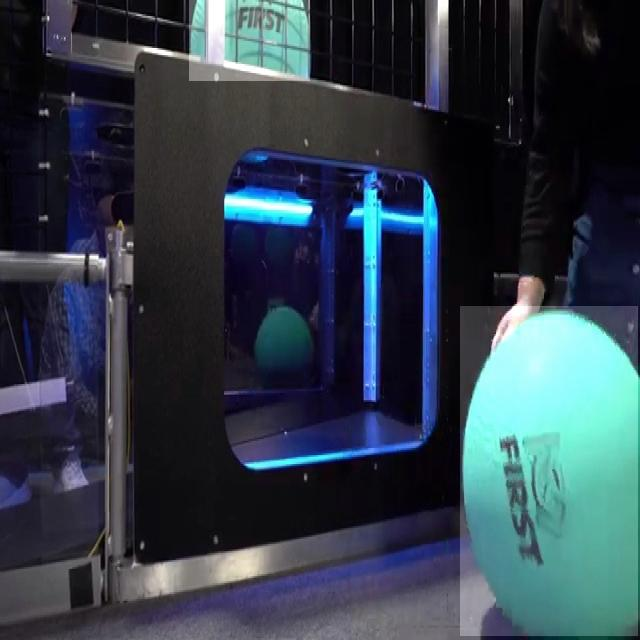Algae: (460, 306, 638, 636), (189, 0, 310, 81)
